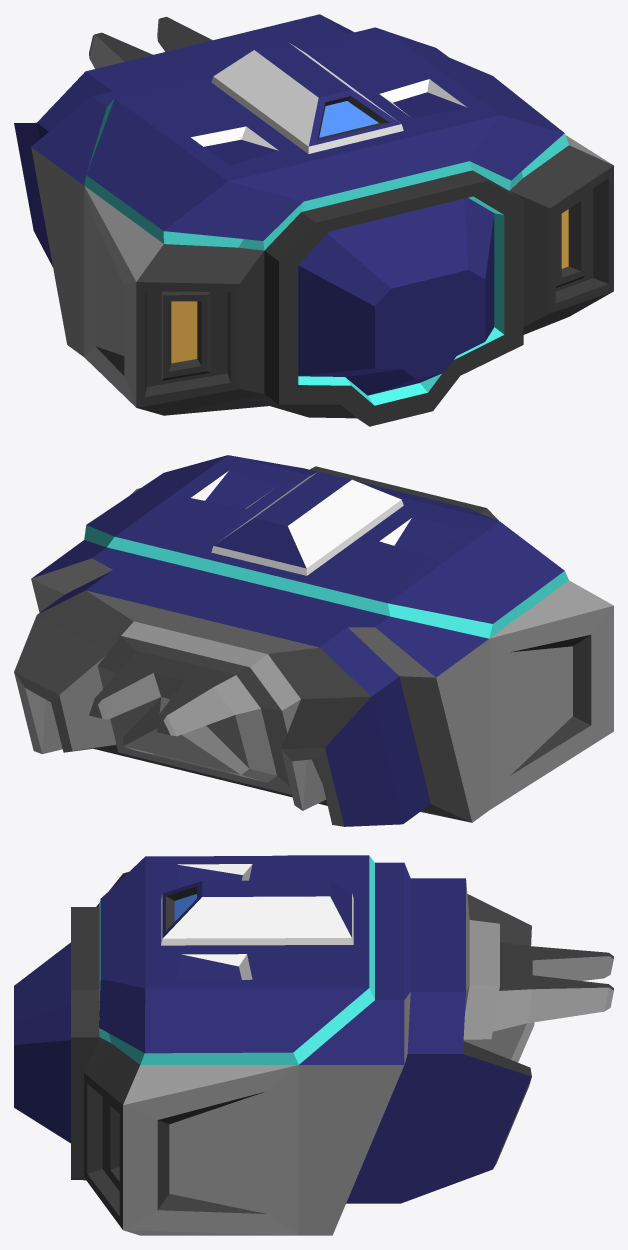
File: Ship_2x2_B2.fbx
3 renders of one model, top to bottom at view 1: azimuth 30°, elevation 25°; view 2: azimuth 150°, elevation 25°; view 3: azimuth 270°, elevation 25°, orthographic.
Visible parts, largest first — view 1: Ship_2x2_B2; view 2: Ship_2x2_B2; view 3: Ship_2x2_B2.
Part boxes in pixels (left/top/right/bottom): Ship_2x2_B2: left=14, top=14, right=613, bottom=426; Ship_2x2_B2: left=14, top=455, right=613, bottom=826; Ship_2x2_B2: left=14, top=855, right=613, bottom=1235.
Bounding box in the file's own units: 172 × 102 × 188.
